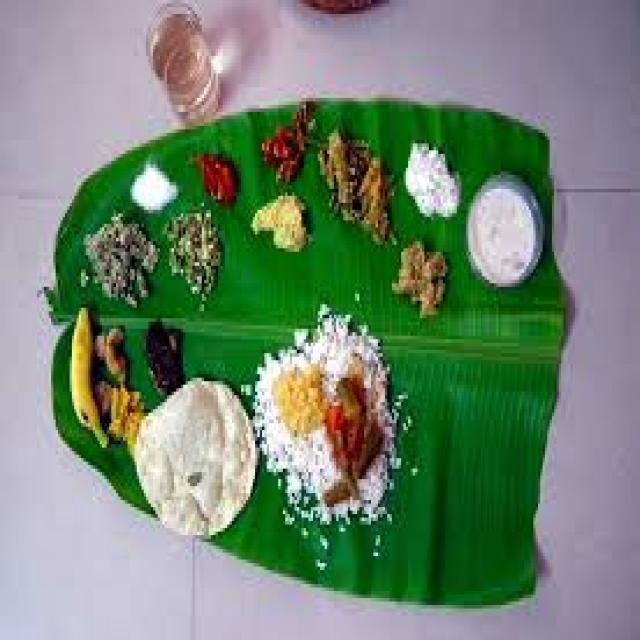rice: (251, 312, 404, 527)
sambar-rasam: (462, 150, 554, 300)
